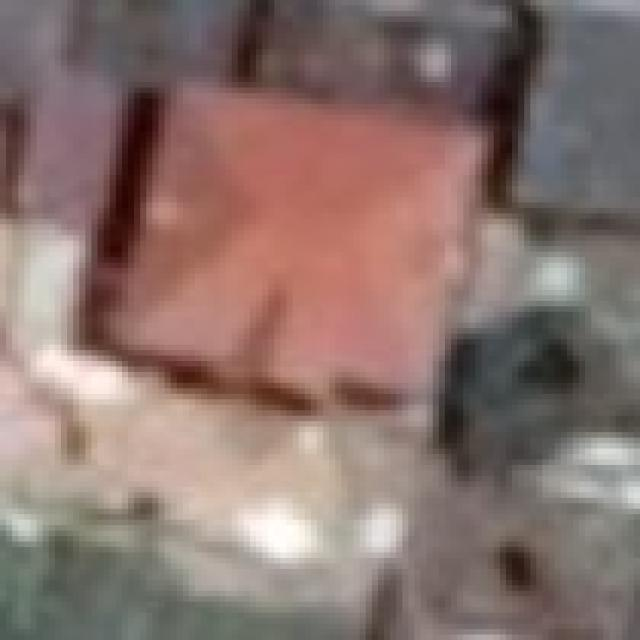Batiment: (89, 86, 482, 406)
